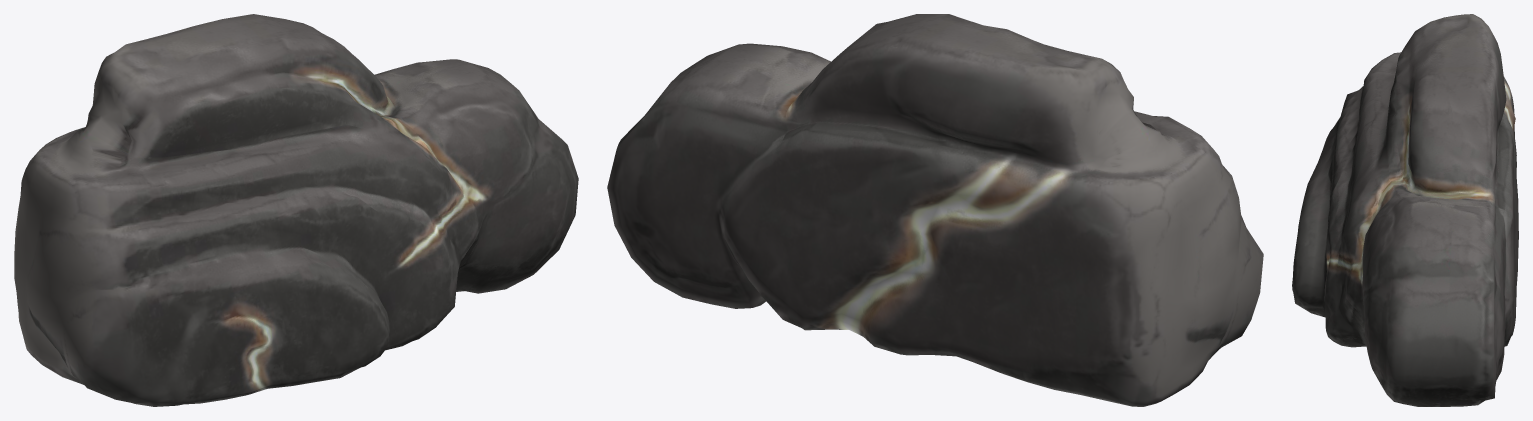
File: Rock_ore_Deposit_low.glb
3 views of the same model, side by side, from view 1: azimuth 30°, elevation 25°; view 2: azimuth 150°, elevation 25°; view 3: azimuth 270°, elevation 25° (orthographic). The views are drawn at different scales.
Visible parts, largest first — view 1: Rock_ore_Deposit_low; view 2: Rock_ore_Deposit_low; view 3: Rock_ore_Deposit_low.
Boxes of the visible parts, x1=… form: Rock_ore_Deposit_low: x1=14, y1=14, x2=578, y2=406; Rock_ore_Deposit_low: x1=607, y1=14, x2=1263, y2=406; Rock_ore_Deposit_low: x1=1292, y1=14, x2=1518, y2=406.
Size of the model in its own units: 0.4694 by 0.248 by 0.2092.
Materials: 1 (1 with a texture image).
